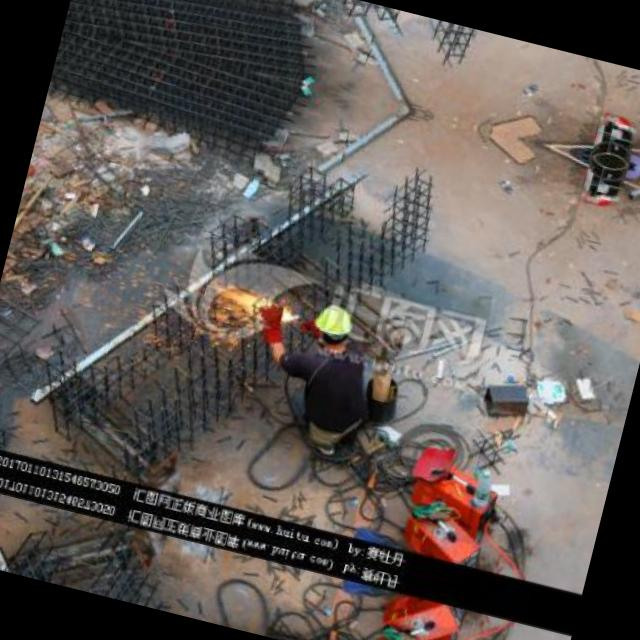helmet: (306, 297, 358, 348)
